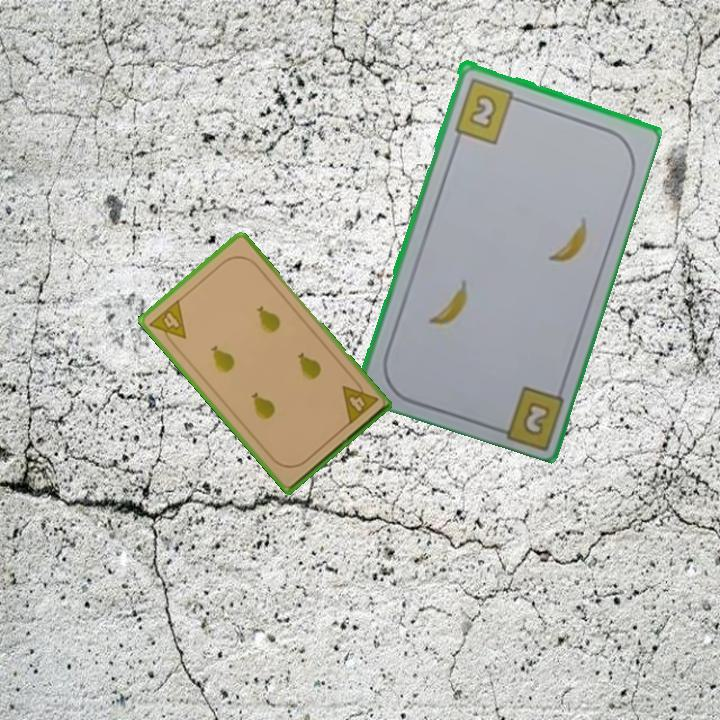2b: (451, 74, 524, 146), (521, 401, 550, 435)
4p: (145, 296, 189, 350), (338, 375, 381, 428)
